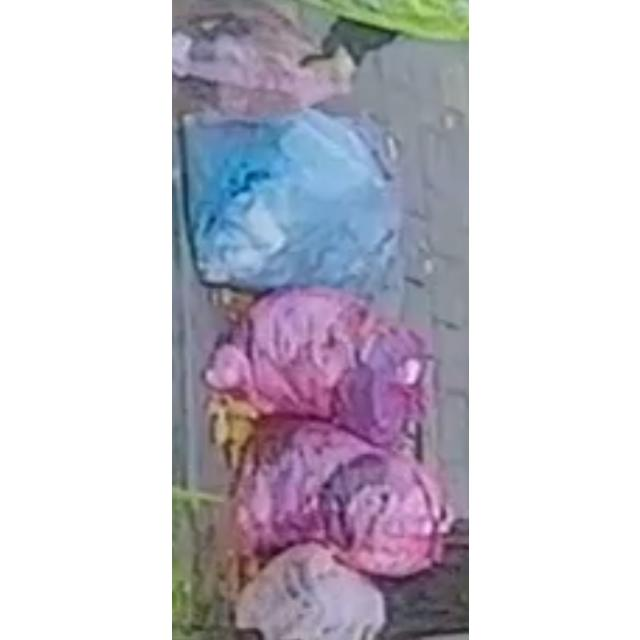other_trashbag: (185, 110, 396, 293), (206, 289, 424, 447), (236, 419, 440, 577), (236, 542, 385, 640)
